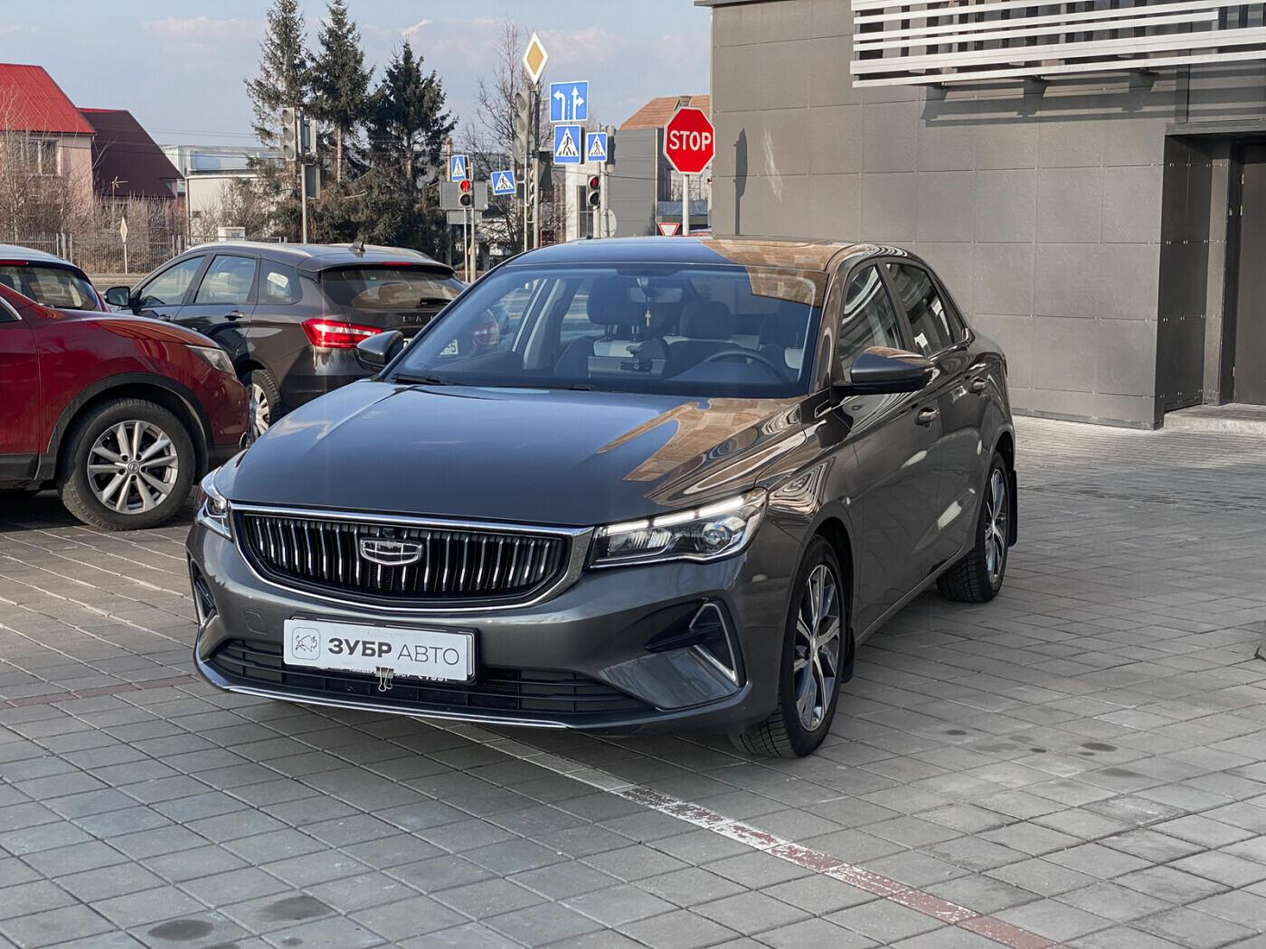Emgrand_2021: (172, 231, 1021, 779)
